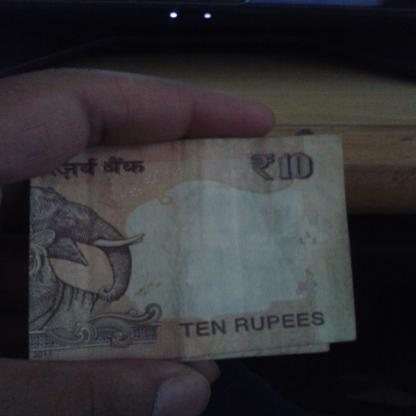Old10Back: (26, 132, 359, 364)
